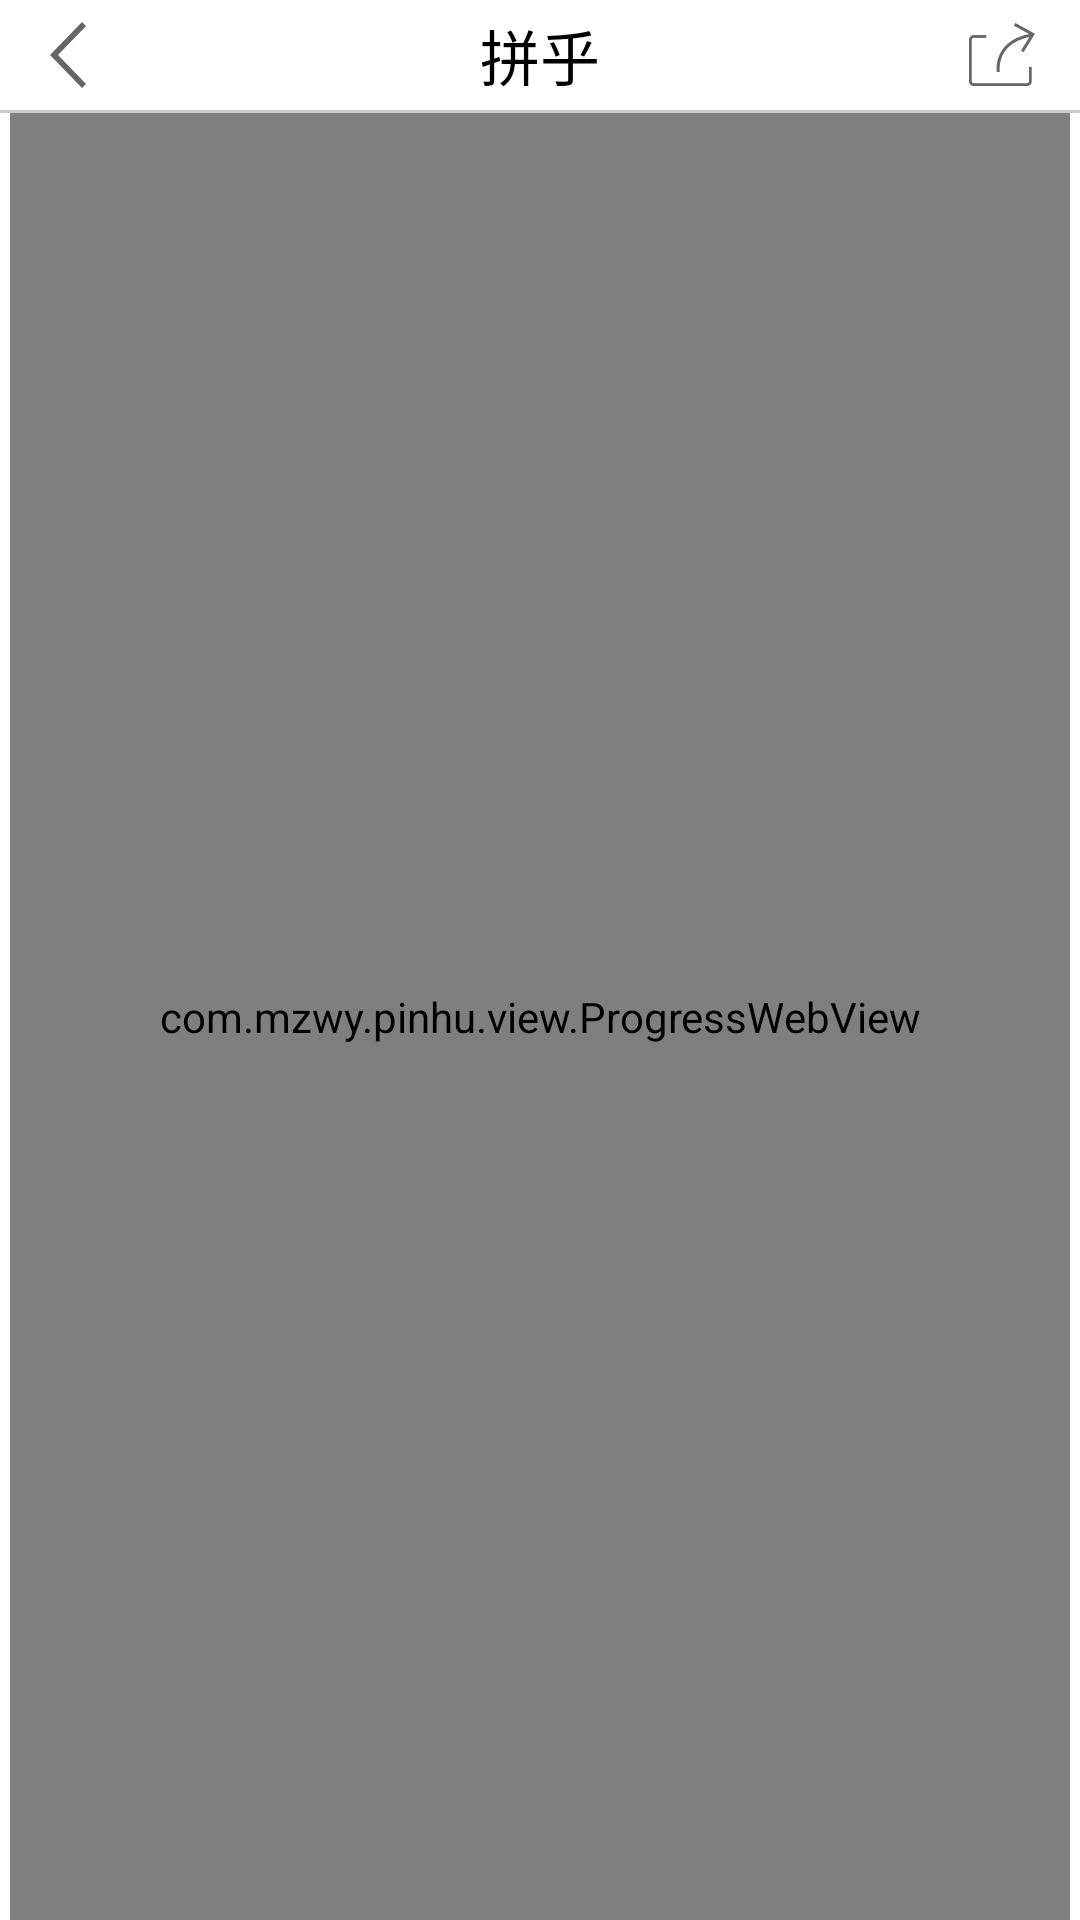

Named icons in this screenshot (1080px x 1920px) and their bounding boxes, box=[x1, y1, x2, y2]:
back: box=[50, 22, 86, 88]
share: box=[969, 23, 1035, 86]
